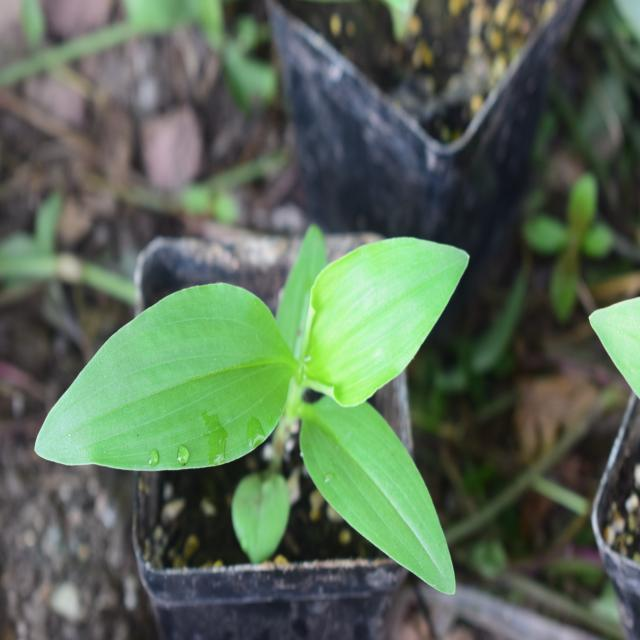Common Dayflower: (54, 198, 472, 572)
